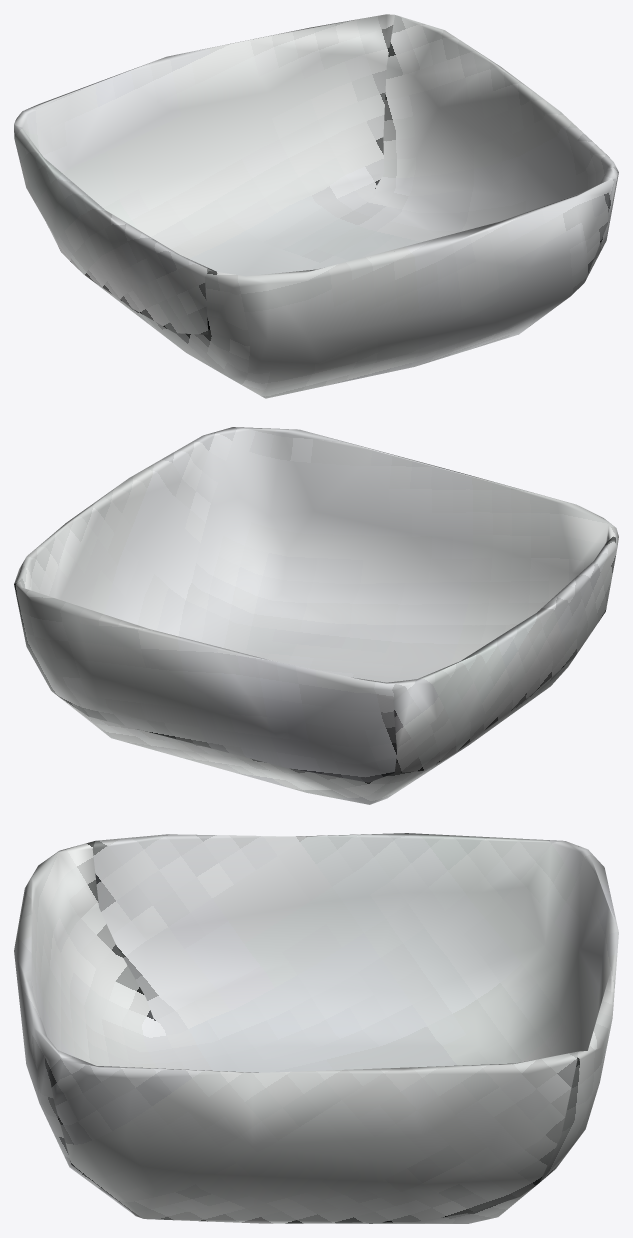
File: Neat_Solutions_Character_Bib_2_pack-low.glb
3 renders of one model, top to bottom at view 1: azimuth 30°, elevation 25°; view 2: azimuth 150°, elevation 25°; view 3: azimuth 270°, elevation 25°, orthographic. The views are drawn at different scales.
Parts seen in each view (by area): view 1: Neat_Solutions_Character_Bib_2_pack; view 2: Neat_Solutions_Character_Bib_2_pack; view 3: Neat_Solutions_Character_Bib_2_pack.
Boxes of the visible parts, x1,y1,x2,y2 form: Neat_Solutions_Character_Bib_2_pack: (14, 14, 618, 398); Neat_Solutions_Character_Bib_2_pack: (14, 427, 618, 804); Neat_Solutions_Character_Bib_2_pack: (14, 833, 618, 1223).
Bounding box in the file's own units: 0.2029 × 0.0762 × 0.2039.
1 material, 1 textured.
